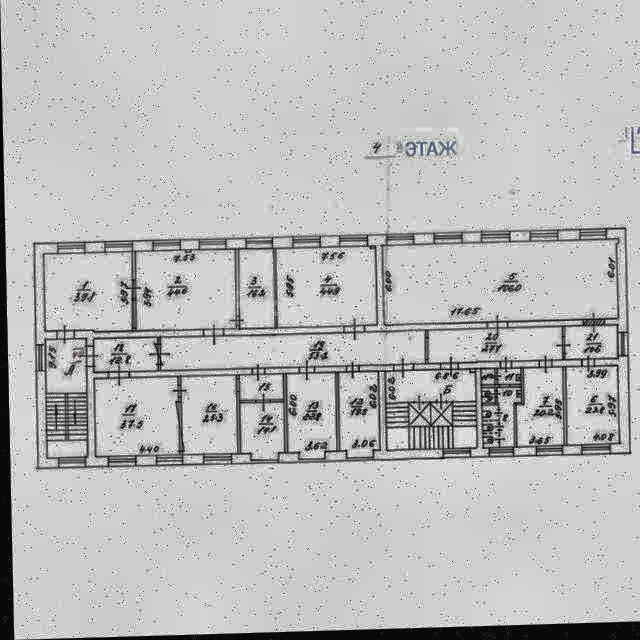room: (381, 243, 618, 327), (158, 333, 424, 371), (133, 250, 234, 332), (277, 249, 376, 328), (42, 252, 131, 333), (92, 377, 178, 457), (426, 330, 561, 366), (44, 339, 84, 458), (179, 376, 236, 456), (284, 375, 335, 462), (384, 405, 475, 453), (564, 369, 617, 447), (514, 370, 562, 450), (336, 374, 378, 460), (383, 371, 474, 406), (237, 251, 273, 329), (238, 404, 283, 461), (480, 390, 521, 450), (93, 339, 156, 372), (563, 329, 616, 363), (238, 375, 282, 402), (495, 372, 519, 388), (479, 372, 493, 387), (480, 390, 493, 406)
